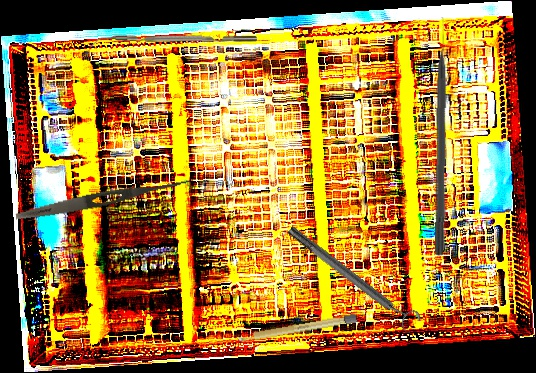Chopper: (89, 33, 258, 50)
Dressing Forceps: (14, 172, 193, 225)
Fixation Ring: (282, 218, 424, 336)
Pusher: (433, 16, 452, 257)
Scalpel Handle: (235, 313, 358, 344)
